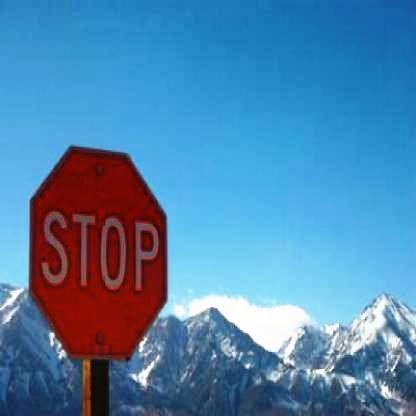Stop Sign: (25, 132, 172, 368)
